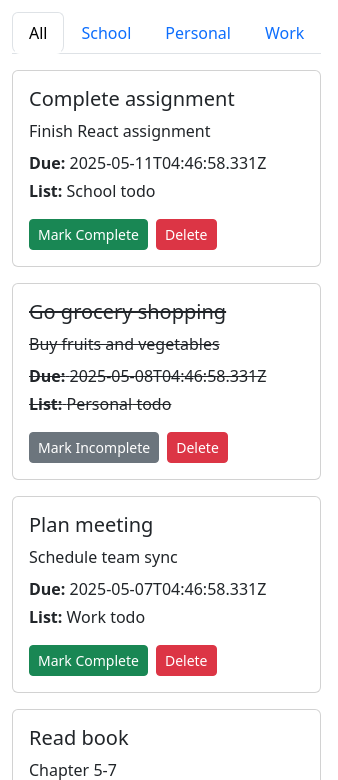
Test: TodoList Component › shows all todos when "All" tab is clicked after filtering
// First filter by School
Click the tab "School". click: {"x": 106, "y": 33}
box: [64,12,148,54]
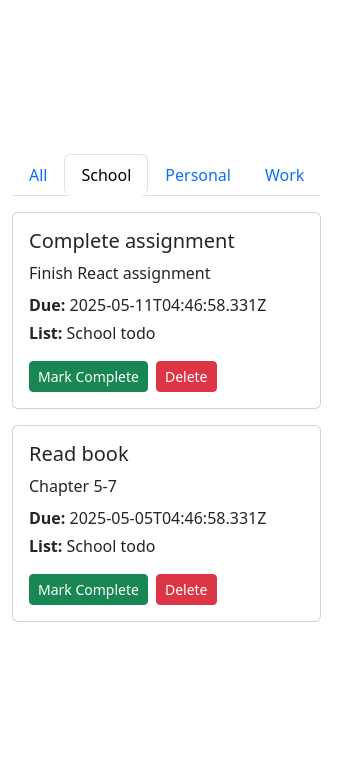
// Then click All
Click the tab "All". click: {"x": 38, "y": 175}
box: [12,154,64,196]
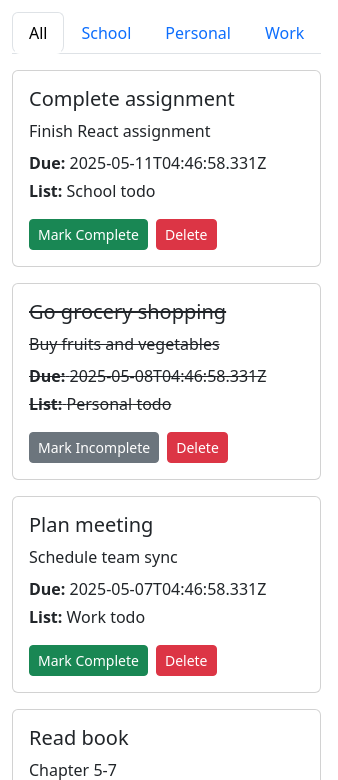
Expected: the heading "Complete assignment" is shown, [29,85,235,112]
Expected: the heading "Go grocery shopping" is shown, [29,298,226,325]
Expected: the heading "Plan meeting" is shown, [29,511,153,538]
